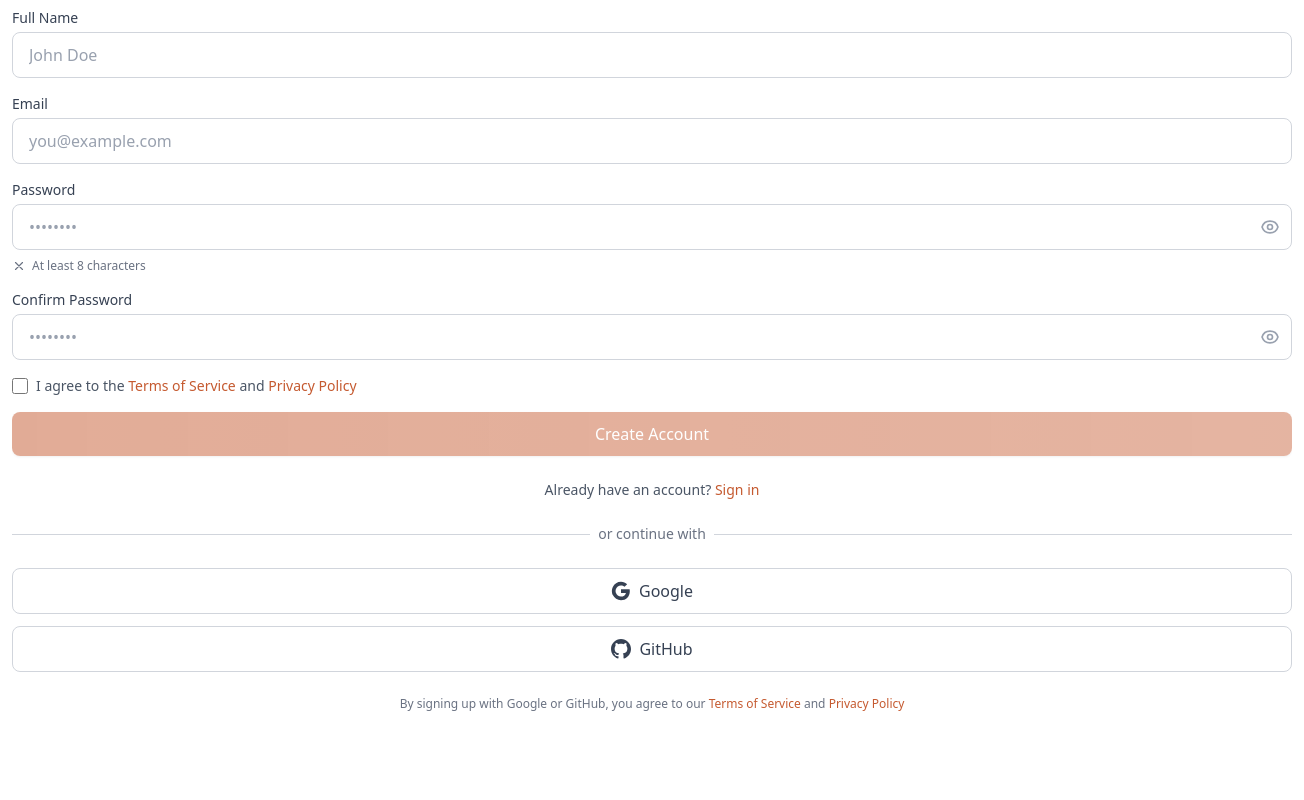
Test case: SignUp › enables submit button when form is valid
Type "Test User" into the field labelled "Full Name" at point(652, 55), box [12,32,1292,78]
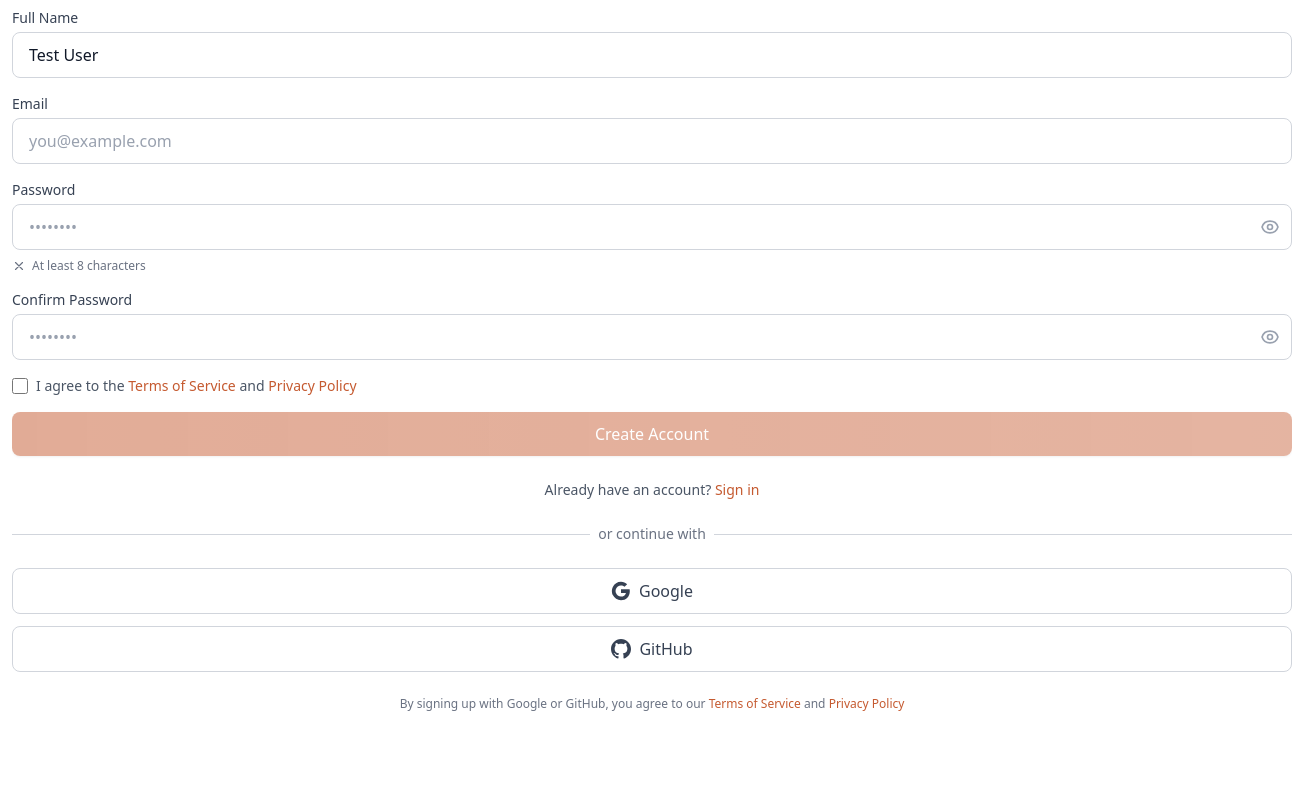
Type "test@example.com" into the field labelled "Email" at point(652, 141), box [12,118,1292,164]
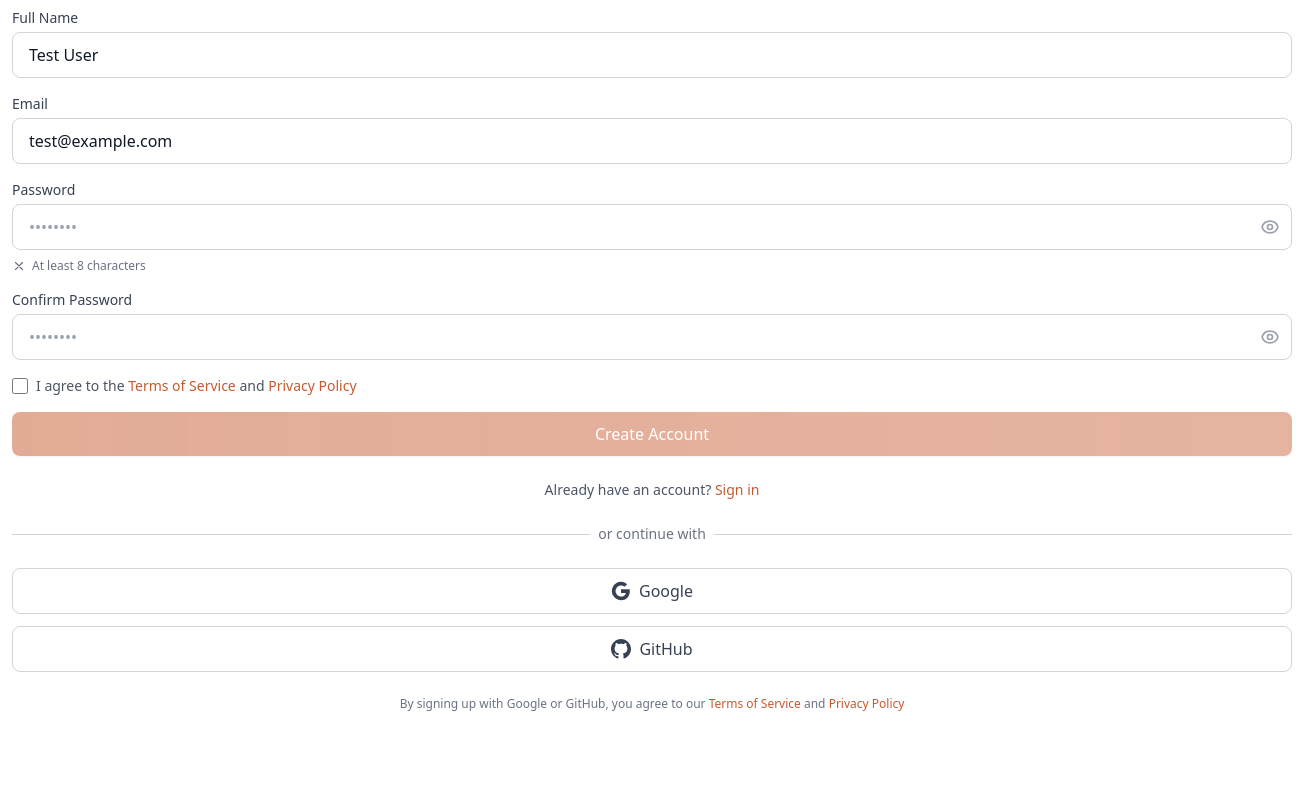
Type "Password123!" into the password field labelled "Password" at point(652, 227), box [12,204,1292,250]
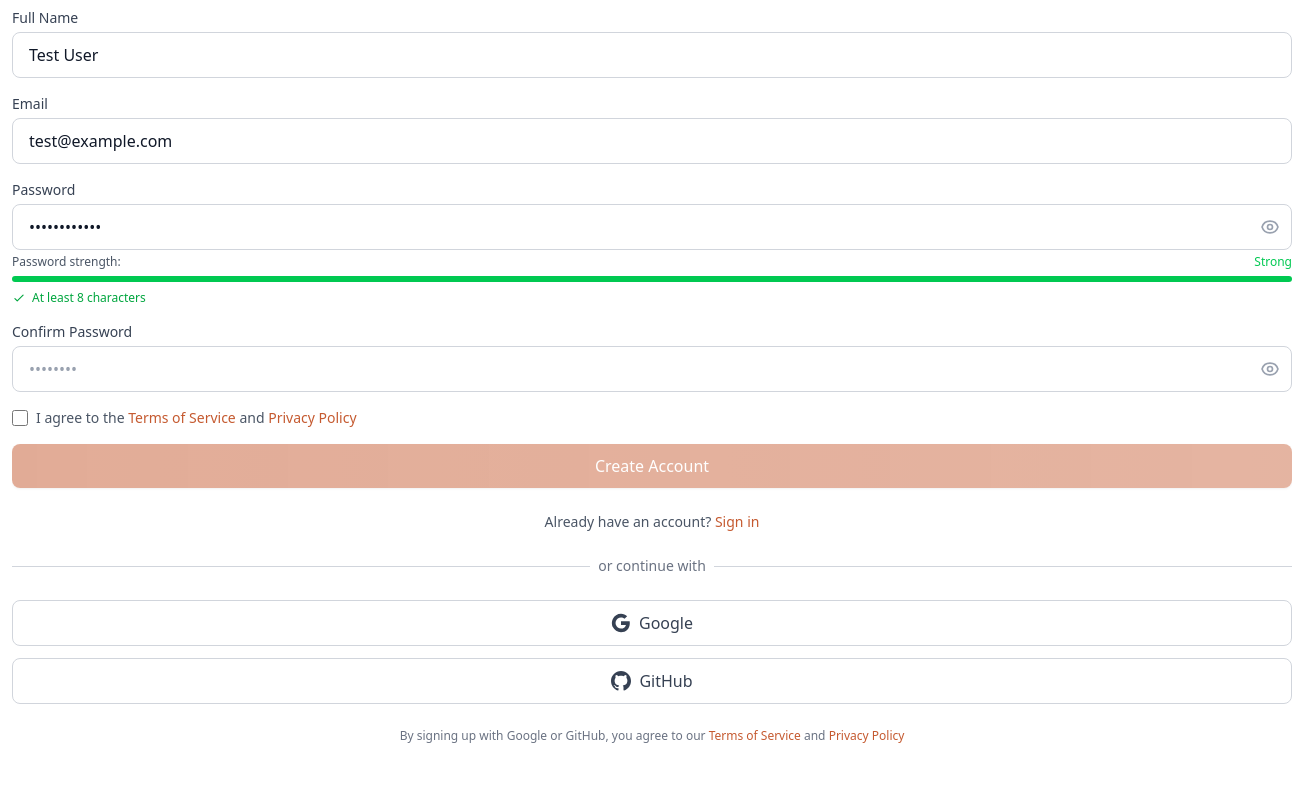
Type "Password123!" into the password field labelled "Confirm Password" at point(652, 369), box [12,346,1292,392]
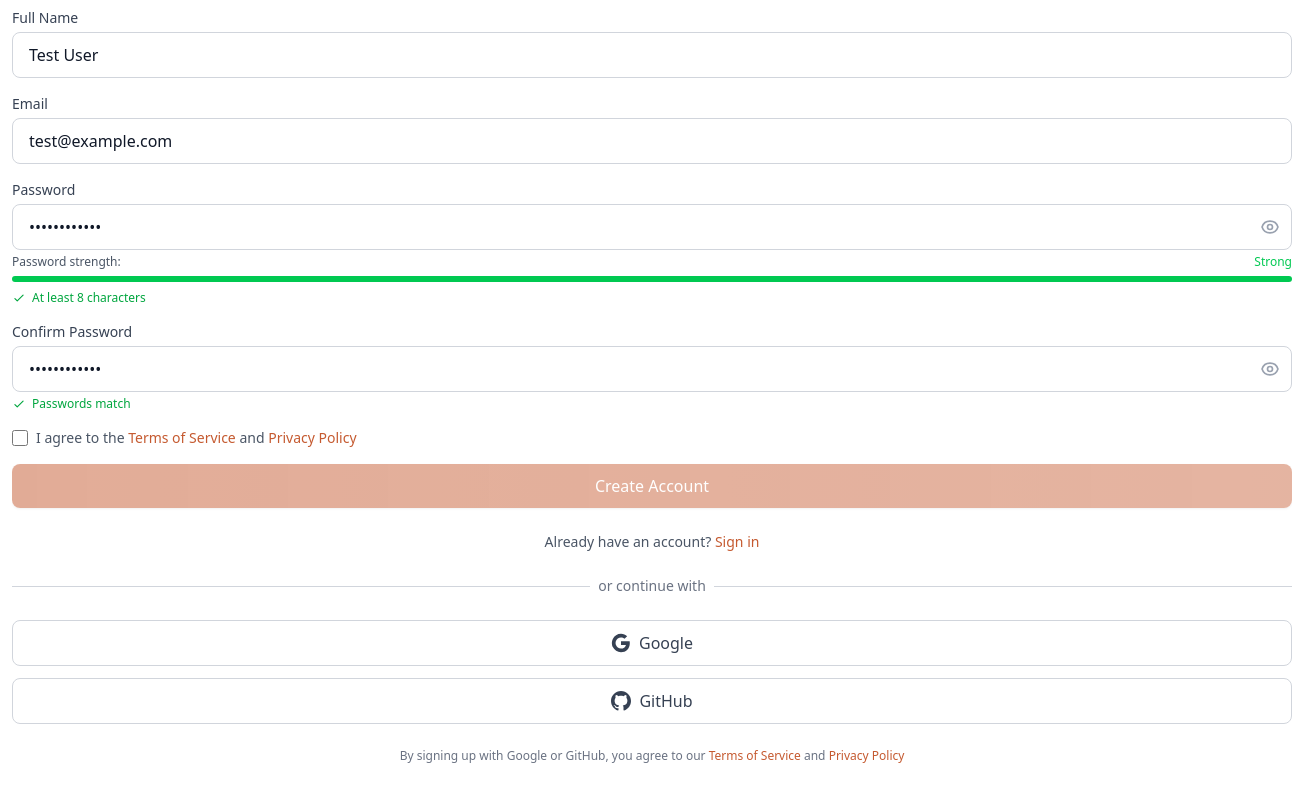
Click the checkbox at point(20, 438), box [12,430,28,446]
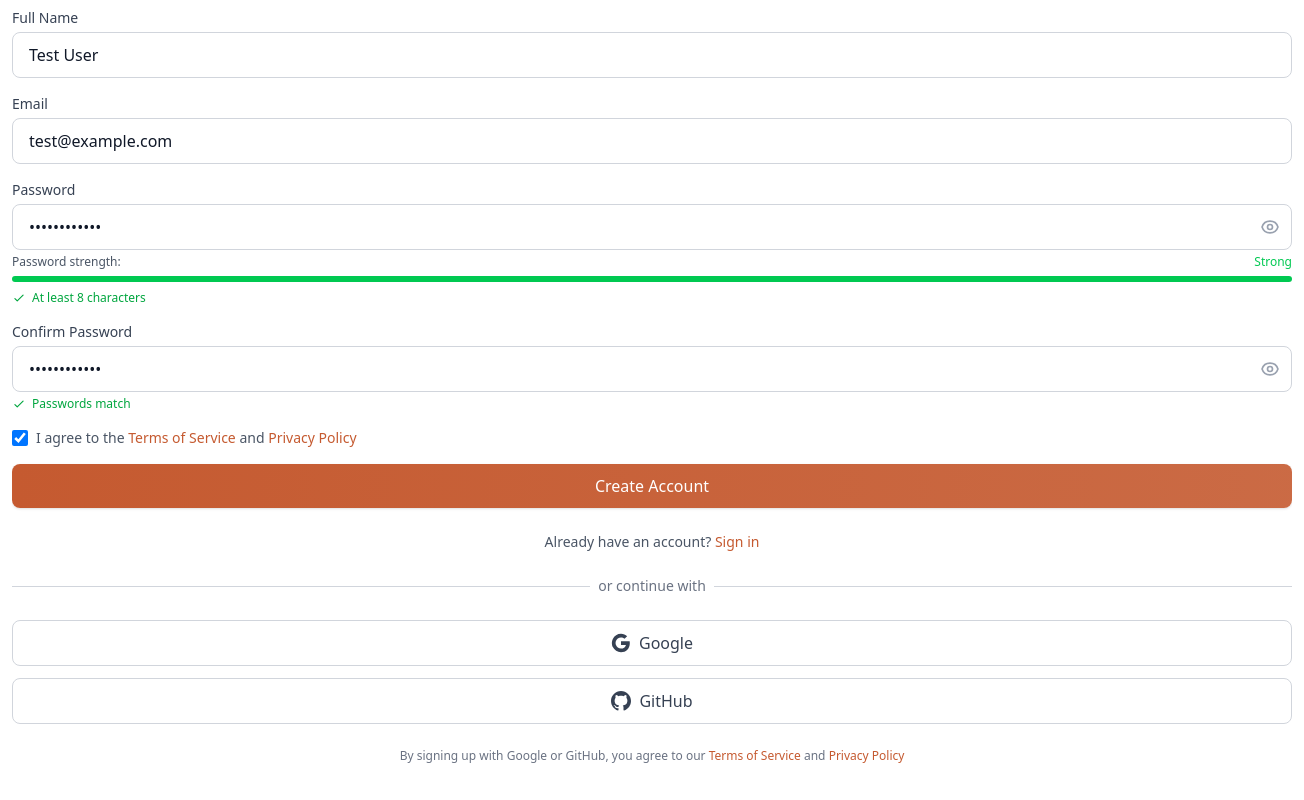
Check: the button "Create Account" is enabled, box [12,464,1292,508]
